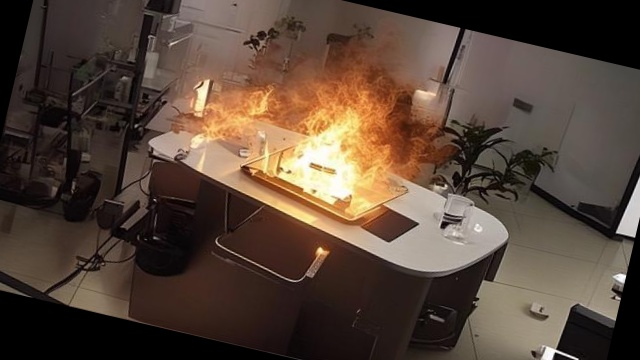fire: (145, 15, 449, 240)
